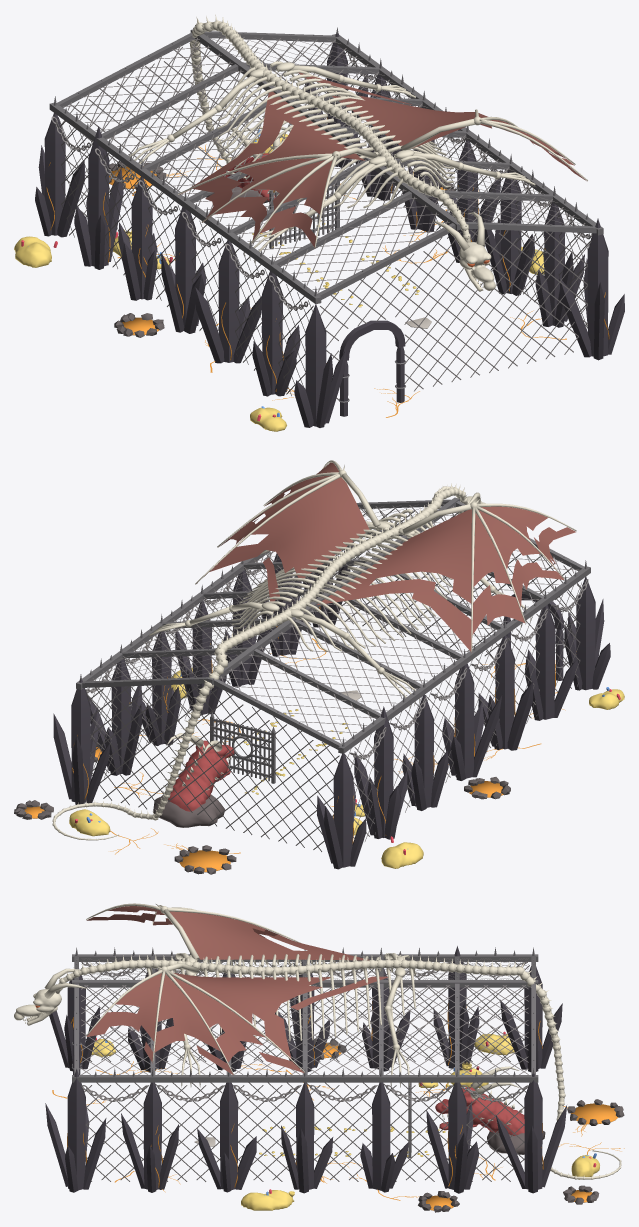
Rendered from DragonLairCage.fbx.
3 views of the same model, one above another, from view 1: azimuth 30°, elevation 25°; view 2: azimuth 150°, elevation 25°; view 3: azimuth 270°, elevation 25° (orthographic). The views are drawn at different scales.
Parts seen in each view (by area): view 1: DragonObsidian, DragonLattice, DragonBones, DragonIron, DragonWingMembrane, DragonHoard, DragonChains, DragonDoorway, DragonSkull, DragonPortcullis, DragonRocks, DragonSpikes (+3 smaller); view 2: DragonObsidian, DragonWingMembrane, DragonLattice, DragonBones, DragonIron, DragonHoard, DragonHead, DragonPortcullis, DragonChains, DragonRocks, DragonMound, DragonLava (+3 smaller); view 3: DragonObsidian, DragonWingMembrane, DragonLattice, DragonBones, DragonIron, DragonHoard, DragonChains, DragonHead, DragonRocks, DragonLava, DragonSkull, DragonCracks (+4 smaller).
Part boxes in pixels (bbox=[...]): DragonObsidian: bbox=[35, 33, 624, 427]; DragonLattice: bbox=[58, 35, 591, 399]; DragonBones: bbox=[124, 14, 587, 290]; DragonIron: bbox=[49, 29, 603, 402]; DragonWingMembrane: bbox=[179, 72, 585, 248]; DragonHoard: bbox=[14, 133, 544, 431]; DragonChains: bbox=[51, 52, 592, 310]; DragonDoorway: bbox=[339, 320, 405, 416]; DragonSkull: bbox=[459, 242, 495, 291]; DragonPortcullis: bbox=[269, 171, 339, 248]; DragonRocks: bbox=[109, 161, 455, 337]; DragonSpikes: bbox=[53, 27, 598, 296]; DragonObsidian: bbox=[53, 542, 610, 869]; DragonWingMembrane: bbox=[197, 462, 575, 652]; DragonLattice: bbox=[86, 504, 581, 851]; DragonBones: bbox=[52, 460, 576, 840]; DragonIron: bbox=[76, 497, 590, 753]; DragonHoard: bbox=[69, 667, 624, 868]; DragonHead: bbox=[168, 740, 234, 811]; DragonPortcullis: bbox=[210, 712, 275, 783]; DragonChains: bbox=[85, 551, 588, 759]; DragonRocks: bbox=[14, 742, 510, 874]; DragonMound: bbox=[153, 794, 225, 827]; DragonLava: bbox=[24, 747, 503, 872]; DragonObsidian: bbox=[45, 946, 566, 1193]; DragonWingMembrane: bbox=[86, 906, 387, 1075]; DragonLattice: bbox=[81, 958, 529, 1181]; DragonBones: bbox=[23, 903, 621, 1179]; DragonIron: bbox=[71, 954, 538, 1082]; DragonHoard: bbox=[91, 1034, 599, 1210]; DragonChains: bbox=[81, 962, 528, 1101]; DragonHead: bbox=[435, 1087, 524, 1135]; DragonRocks: bbox=[314, 1039, 624, 1212]; DragonLava: bbox=[314, 1042, 618, 1210]; DragonSkull: bbox=[14, 989, 61, 1025]; DragonCracks: bbox=[52, 1061, 624, 1200].
Bounding box in the file's own units: 1070 × 572 × 1605.
